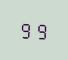nine: (33, 19, 46, 40), (19, 19, 32, 39)
